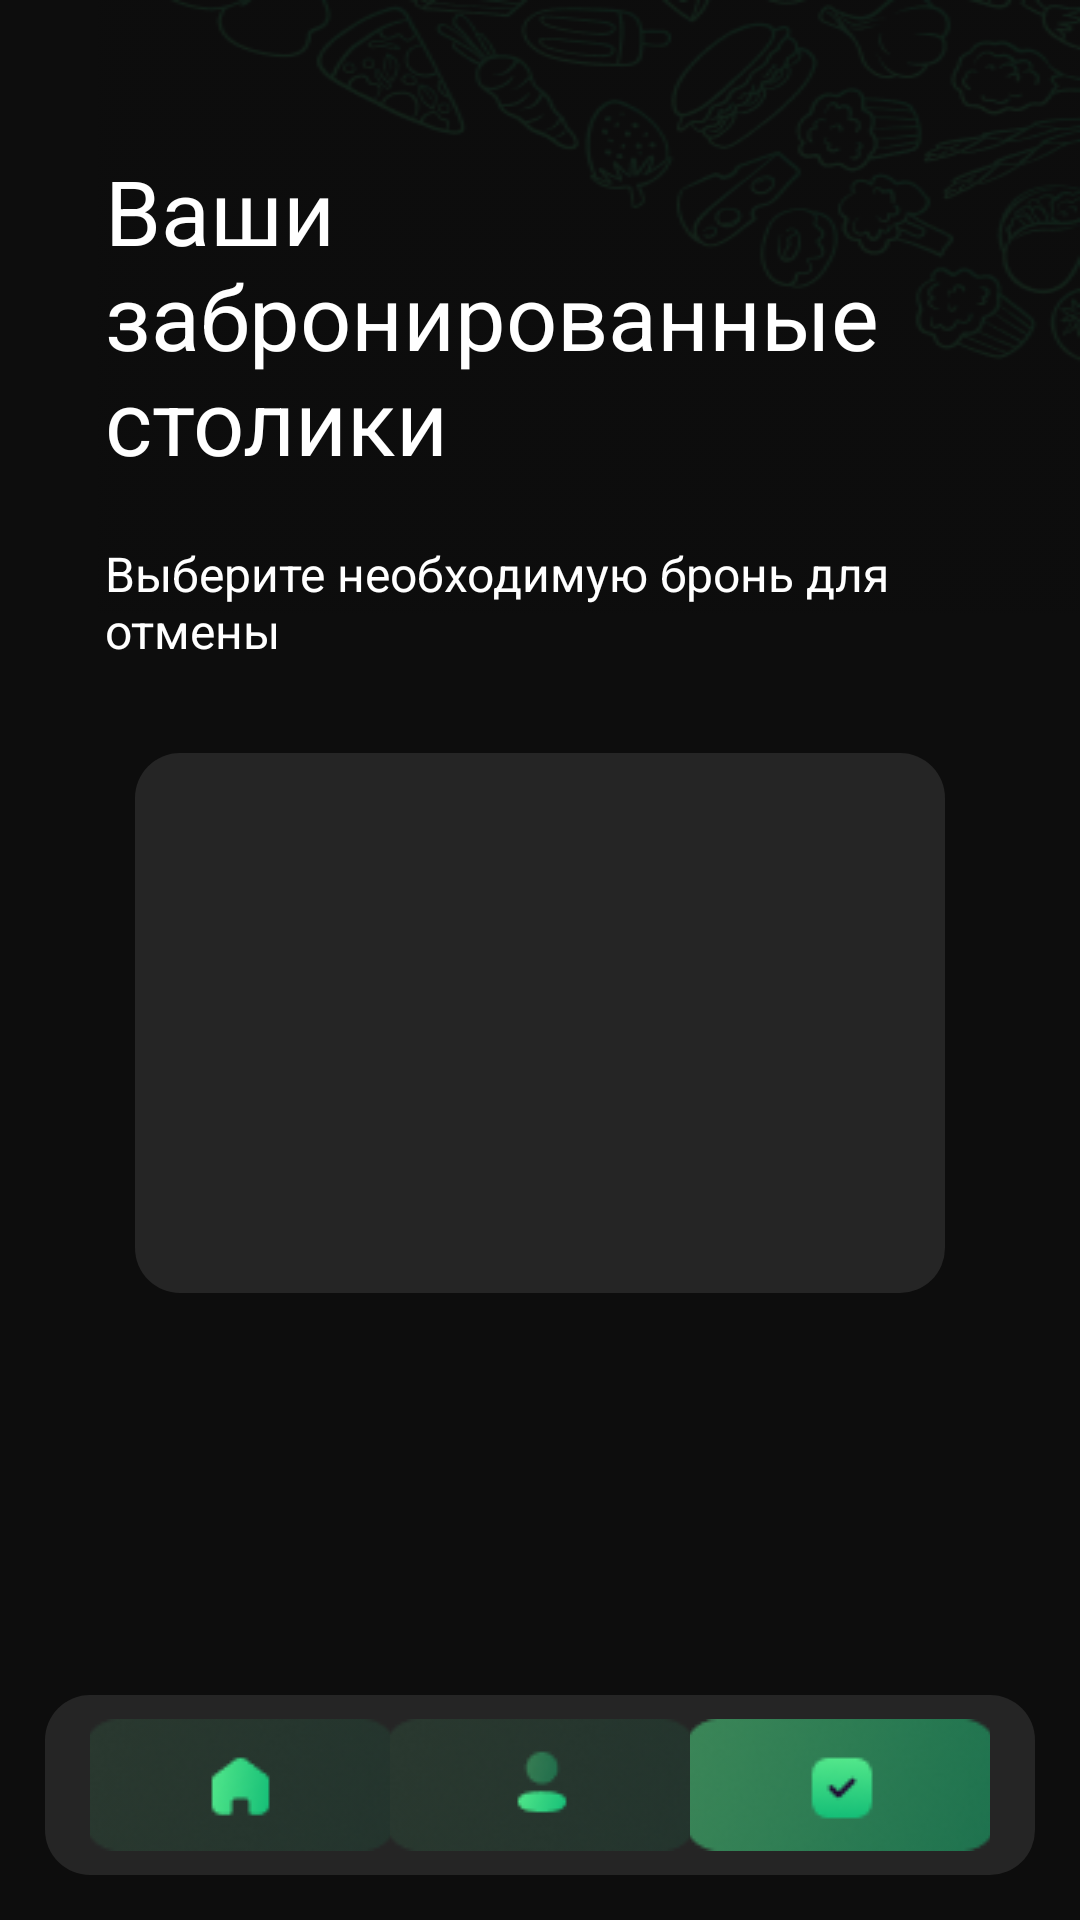

Icons on this 1080x1920 Android screen, each with the point to tap as (x=x, y=y):
check: (x=840, y=1785)
home passive: (x=240, y=1786)
person passive: (x=542, y=1782)
